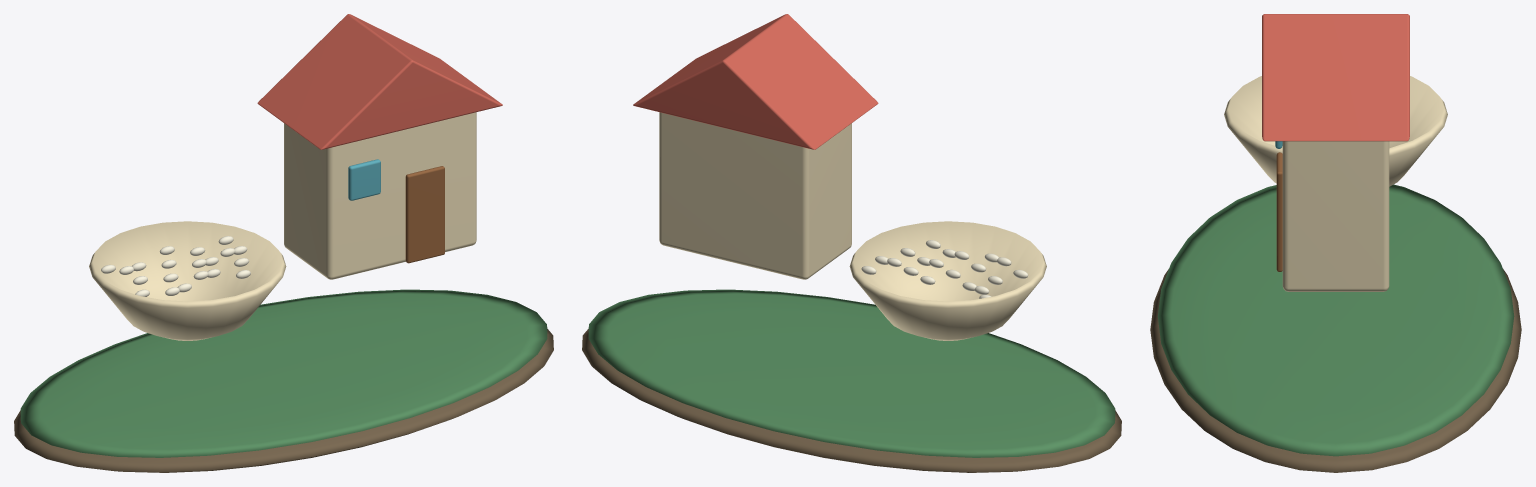
Rendered from rice-restaurant.glb.
3 views of the same model, side by side, from view 1: azimuth 30°, elevation 25°; view 2: azimuth 150°, elevation 25°; view 3: azimuth 270°, elevation 25° (orthographic). The views are drawn at different scales.
Visible parts, largest first — view 1: rice-restaurant_surface_01, rice-restaurant_surface_02, rice-restaurant_surface_03, rice-restaurant_surface_00, rice-restaurant_surface_04, rice-restaurant_surface_06, rice-restaurant_surface_05; view 2: rice-restaurant_surface_01, rice-restaurant_surface_02, rice-restaurant_surface_03, rice-restaurant_surface_00, rice-restaurant_surface_06; view 3: rice-restaurant_surface_01, rice-restaurant_surface_02, rice-restaurant_surface_03, rice-restaurant_surface_00, rice-restaurant_surface_04.
Part boxes in pixels (x1,y1,x2,y2): rice-restaurant_surface_01: (20,289,547,457); rice-restaurant_surface_02: (89,112,476,340); rice-restaurant_surface_03: (257,14,502,149); rice-restaurant_surface_00: (14,329,553,472); rice-restaurant_surface_04: (405,166,444,263); rice-restaurant_surface_06: (101,236,250,296); rice-restaurant_surface_05: (348,159,380,200); rice-restaurant_surface_01: (588,289,1115,457); rice-restaurant_surface_02: (659,112,1046,340); rice-restaurant_surface_03: (633,14,878,149); rice-restaurant_surface_00: (582,329,1121,472); rice-restaurant_surface_06: (861,240,1028,298); rice-restaurant_surface_01: (1157,184,1514,456); rice-restaurant_surface_02: (1224,76,1447,291); rice-restaurant_surface_03: (1262,14,1409,141); rice-restaurant_surface_00: (1150,269,1521,472); rice-restaurant_surface_04: (1276,152,1282,271).
Bounding box in the file's own units: 4.56 × 2.87 × 2.5.
